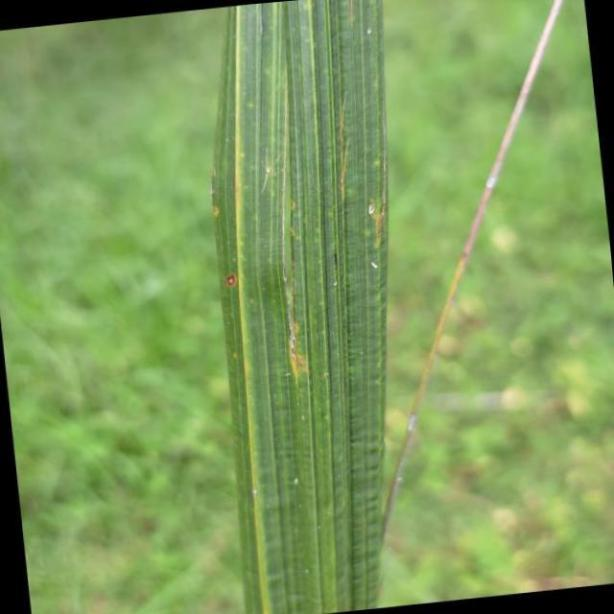Boron: (219, 0, 393, 614)
